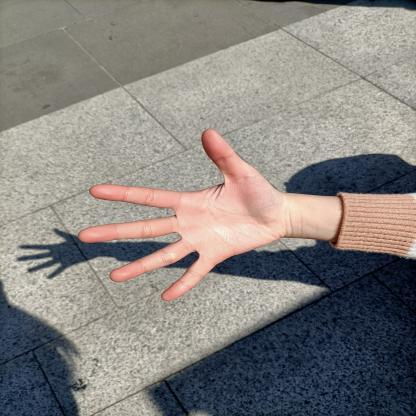bare_hand: (73, 120, 300, 308)
